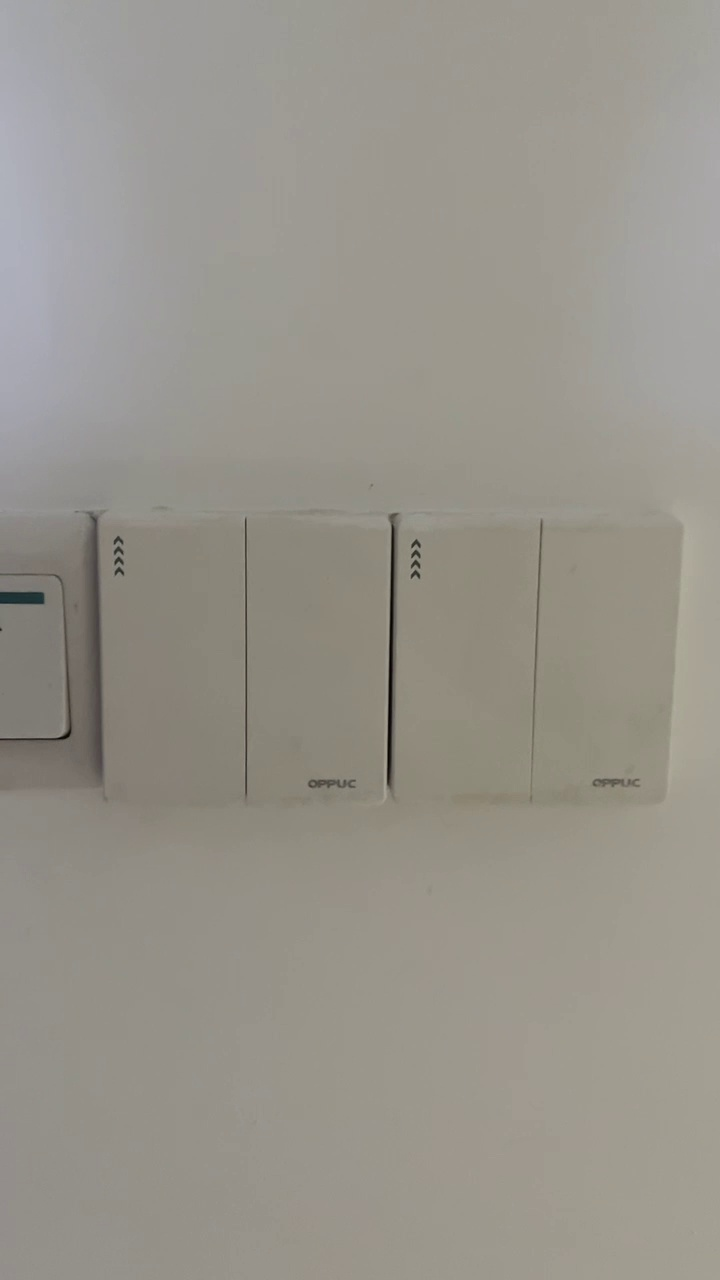button1: (100, 520, 243, 799), (537, 526, 675, 805), (396, 525, 534, 802), (251, 523, 386, 798)
